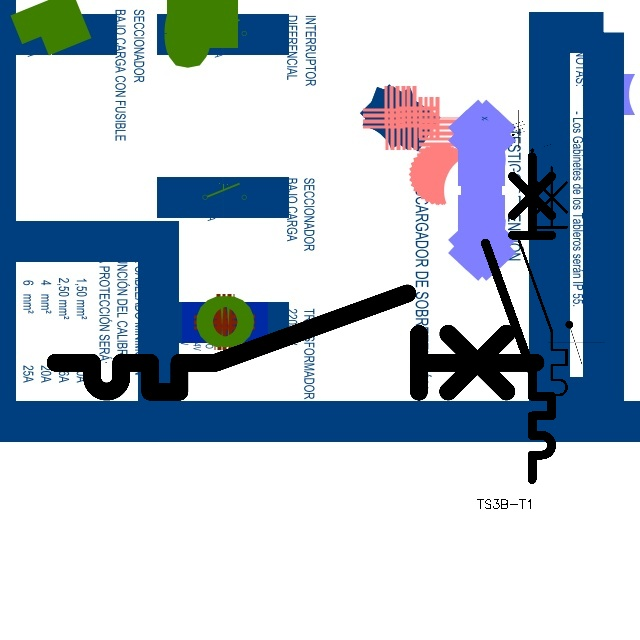interruptor_termomagnetico: (43, 281, 548, 404), (477, 148, 560, 487), (510, 161, 573, 420)
